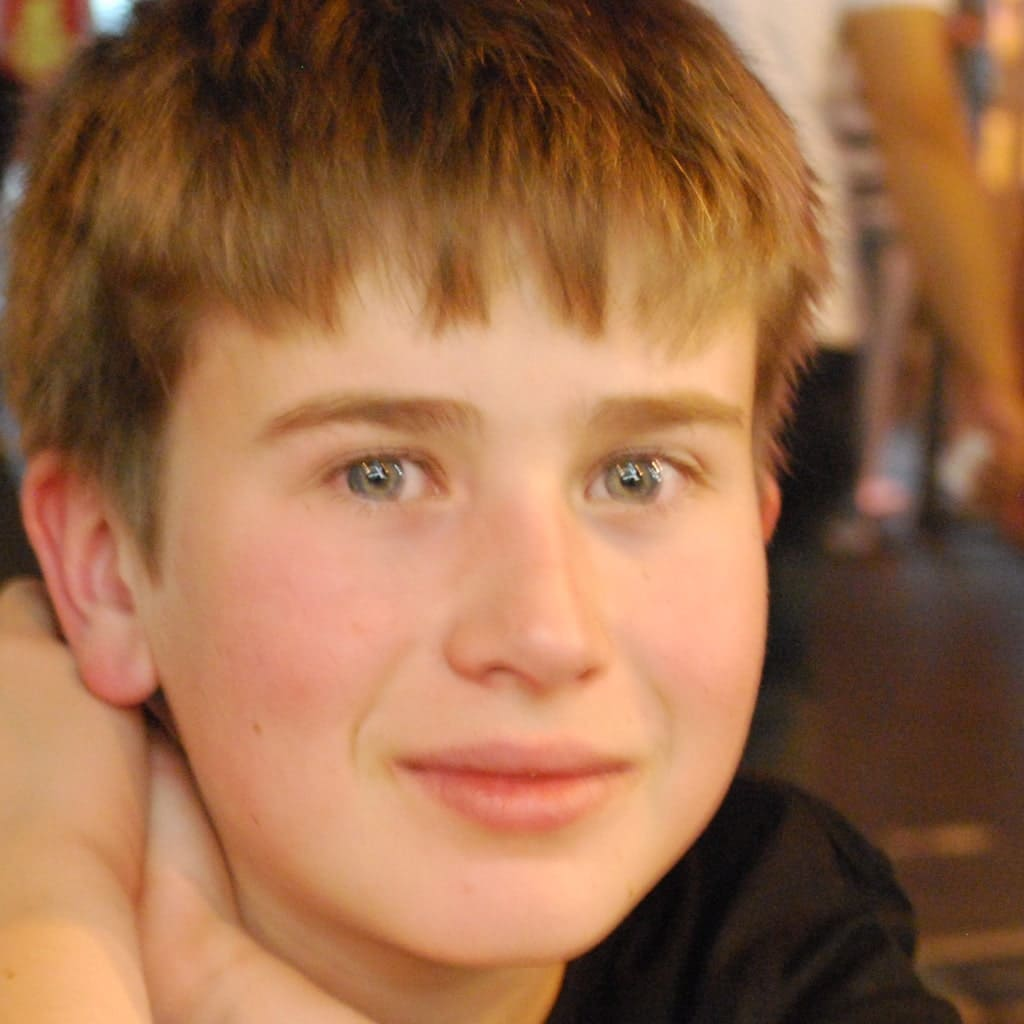without_mask: (196, 332, 748, 871)
